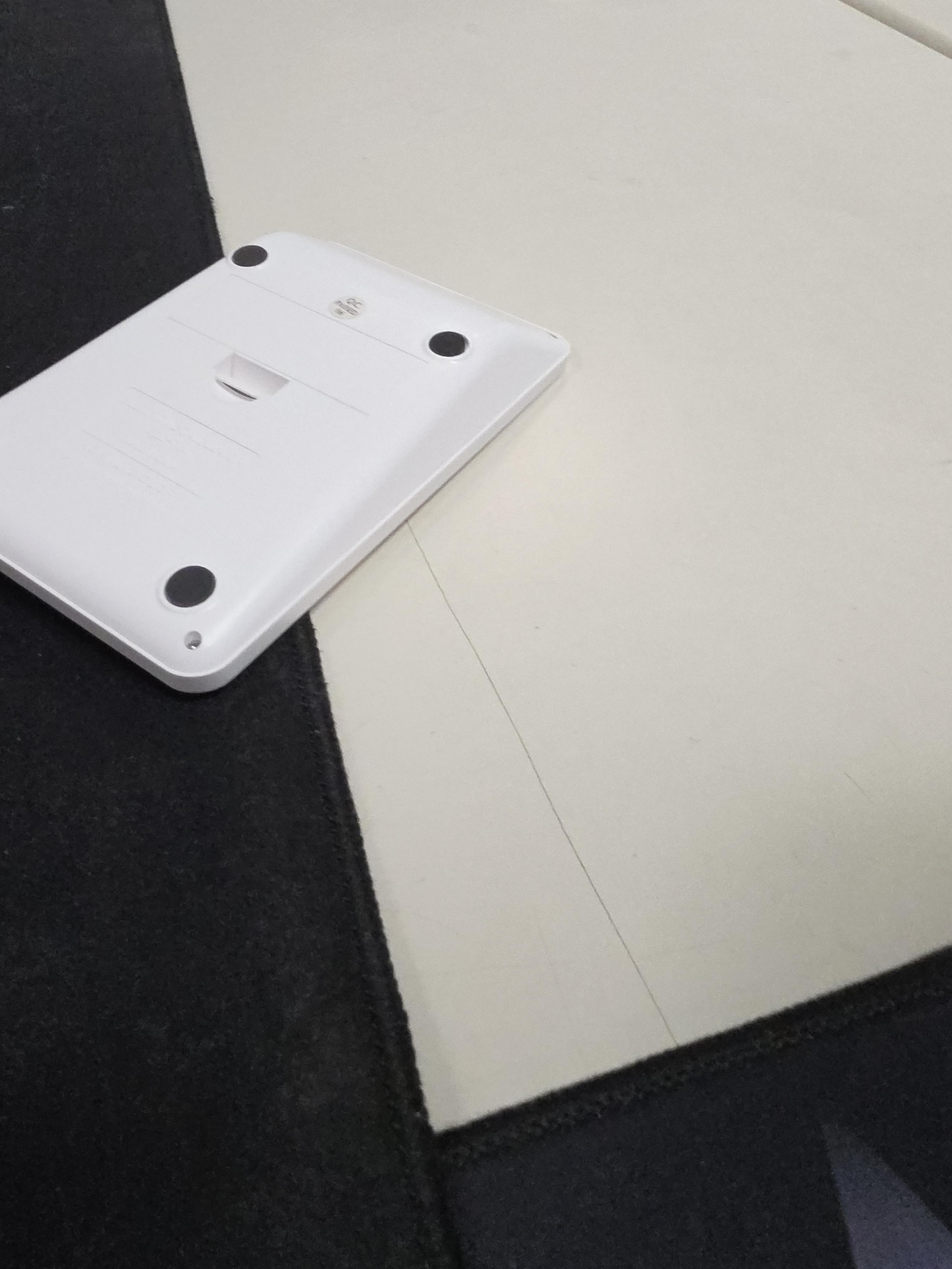calculator: (0, 231, 572, 694)
